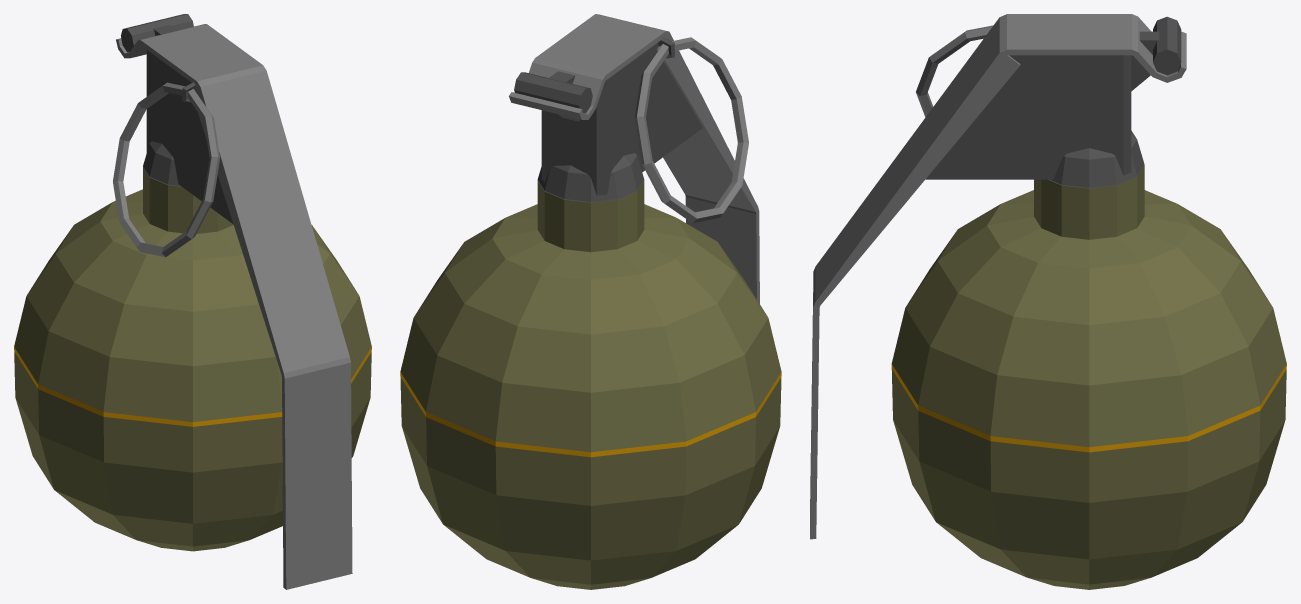
3 views of the same model, side by side, from view 1: azimuth 30°, elevation 25°; view 2: azimuth 150°, elevation 25°; view 3: azimuth 270°, elevation 25° (orthographic). The views are drawn at different scales.
Parts seen in each view (by area): view 1: M67, Pin; view 2: M67, Pin; view 3: M67, Pin.
Boxes of the visible parts, box(x1,y1,x2,y2) form: M67: box(14, 14, 371, 589); Pin: box(113, 82, 220, 257); M67: box(400, 14, 781, 589); Pin: box(634, 37, 748, 223); M67: box(810, 14, 1286, 589); Pin: box(916, 25, 993, 117).
Size of the model in its own units: 193 by 291 by 233.
Materials: 1 (1 with a texture image).
